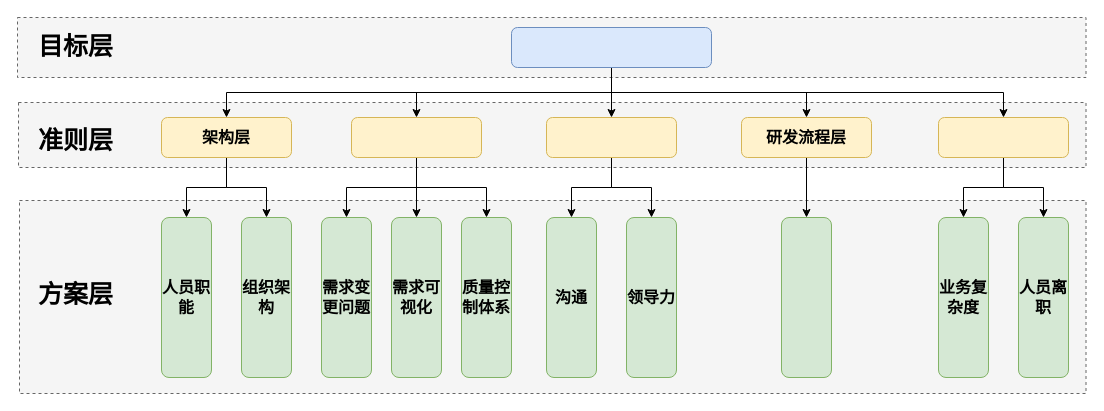
This 1104x411 diagram has some shape labels left out. The shapes that lost their labels are listed below. From the top down, each one's centre as x and y in pixels, then its label:
pixel 611 47: W公司敏捷管理流程问题
pixel 416 137: 需求管理层
pixel 611 137: 协作配合层
pixel 1003 137: 业务成熟度层
pixel 806 297: Scrum流程认可
